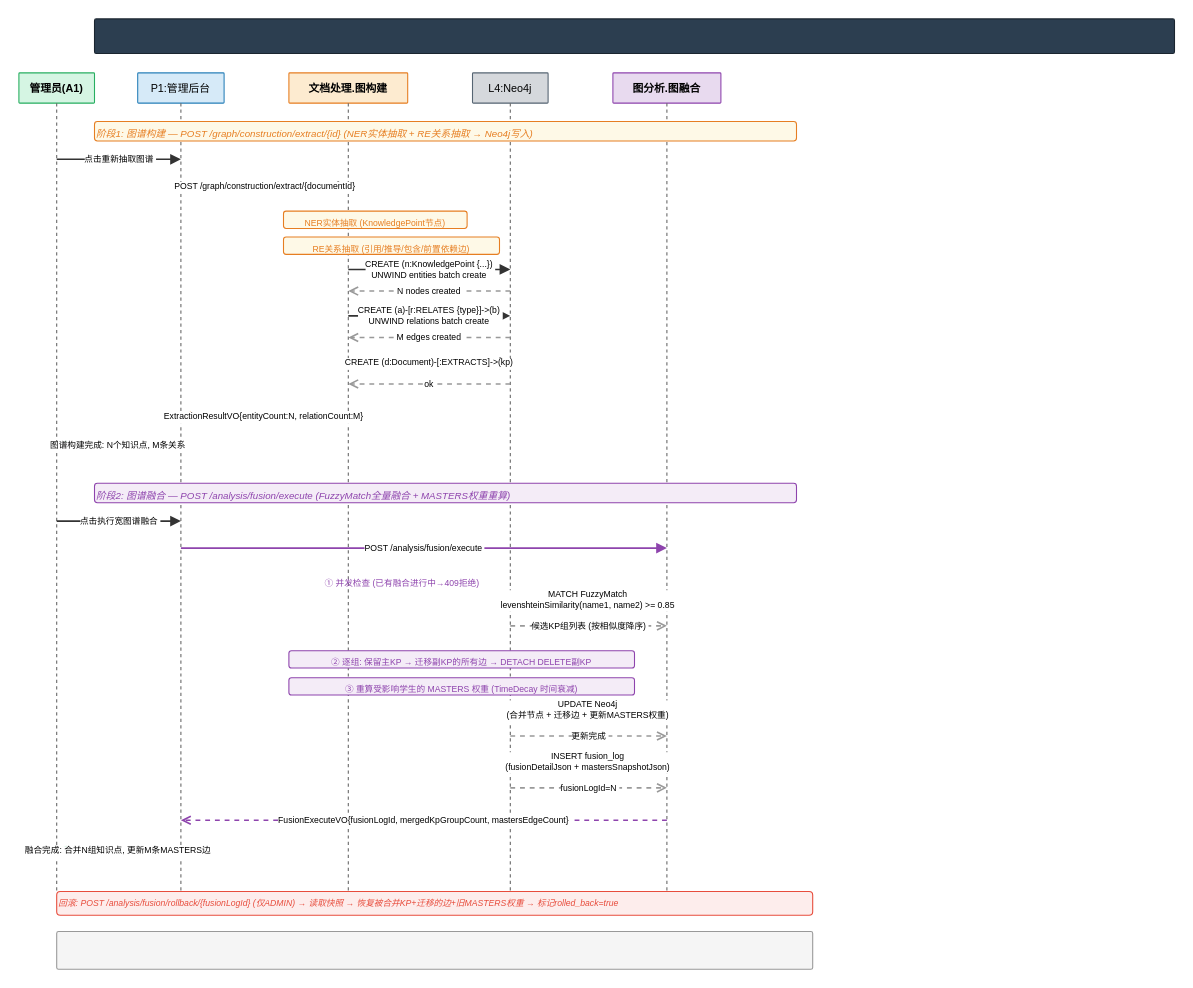
Image size: 1193x988. Some labels were removed from this diagram. Here are the shapes that lost their labels. From the top down, the box of each, then its label:
(93, 18, 1174, 53): S6 · 图谱构建与图谱融合 — 端到端流水线
(56, 930, 813, 969): 端到端流水线: 图谱构建 (NER+RE → Neo4j) → 图谱融合 (FuzzyMatch≥0.85 → KP合并 → MASTERS重算) → 可回滚
